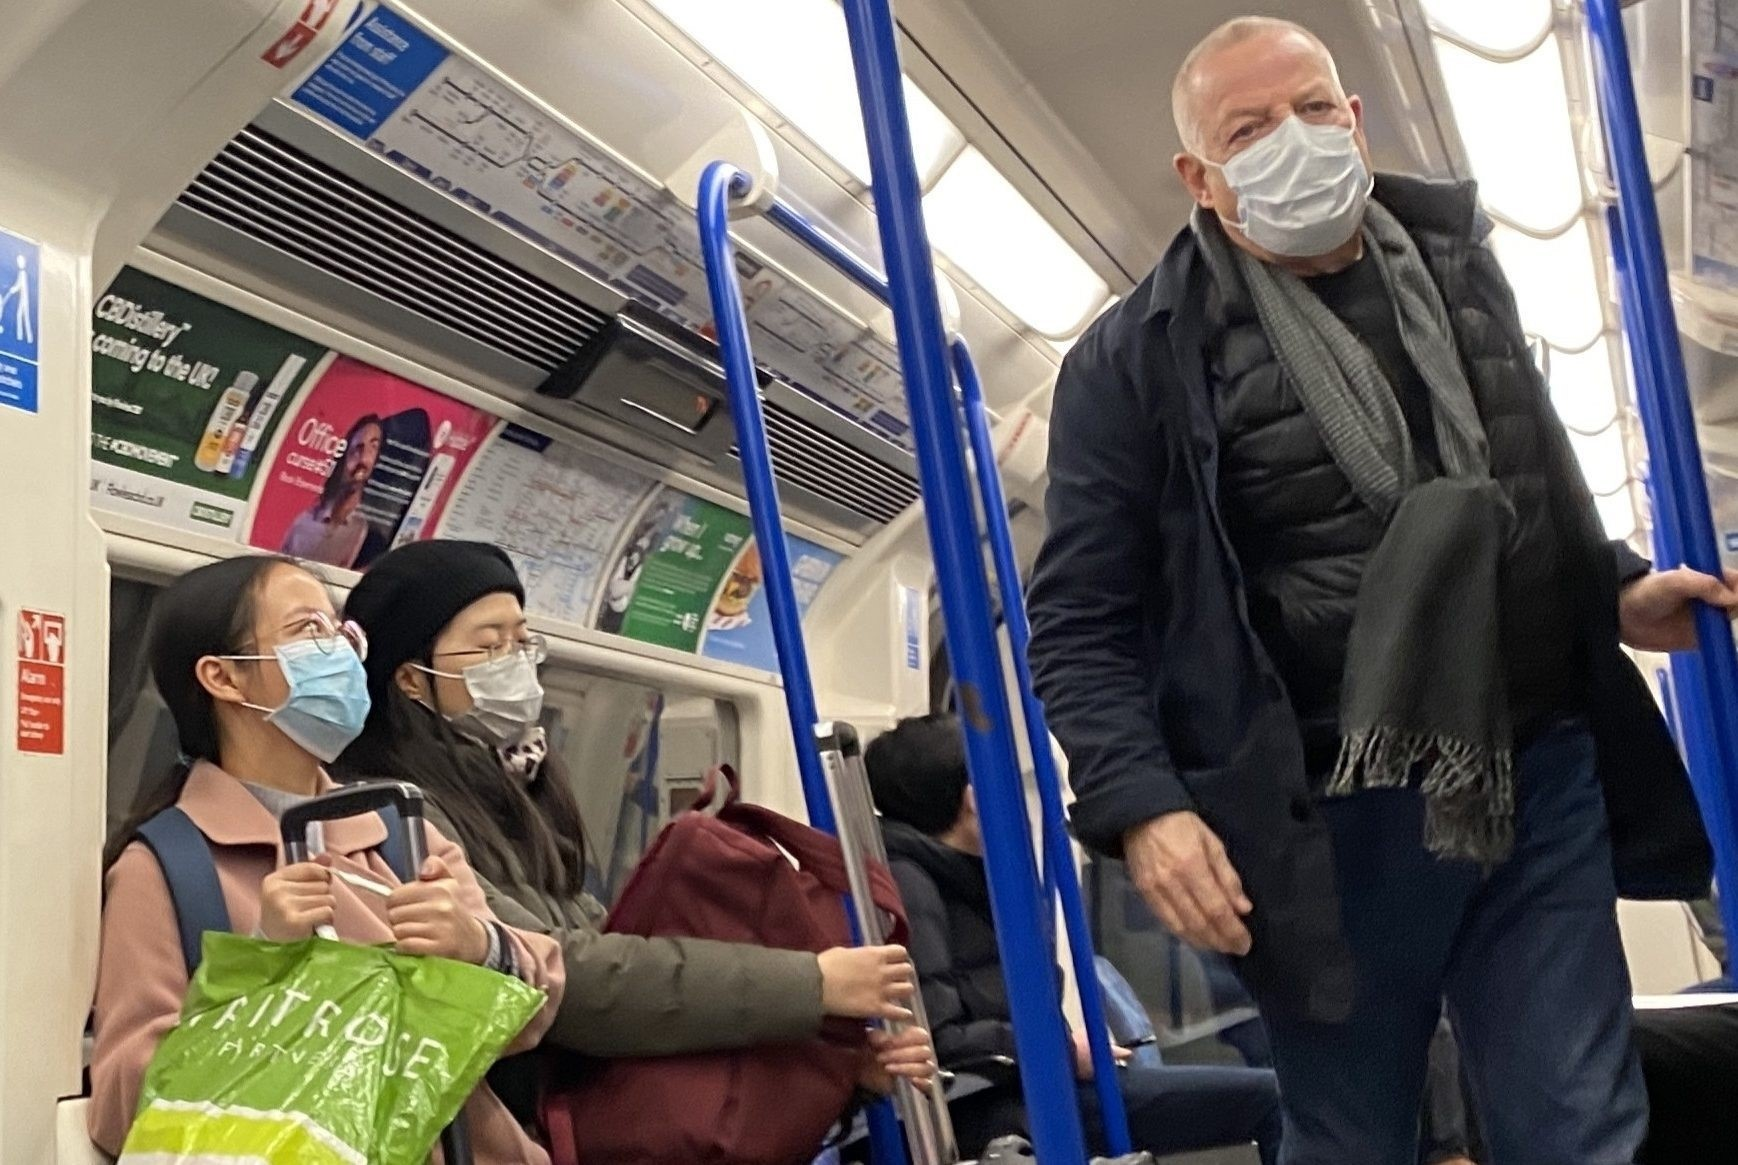face_with_mask: (1162, 13, 1386, 281), (187, 557, 377, 782), (392, 589, 586, 765)
